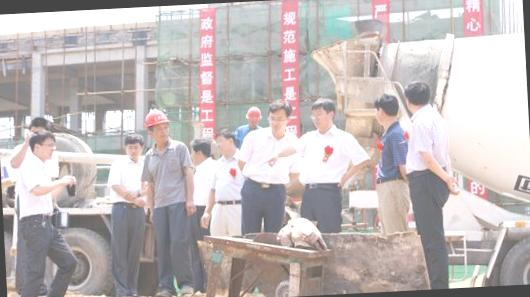no_helmet: (400, 73, 436, 117), (373, 87, 402, 131), (27, 126, 60, 162), (308, 94, 337, 132), (266, 99, 294, 130), (212, 124, 236, 158), (120, 132, 147, 162), (191, 135, 212, 164)
